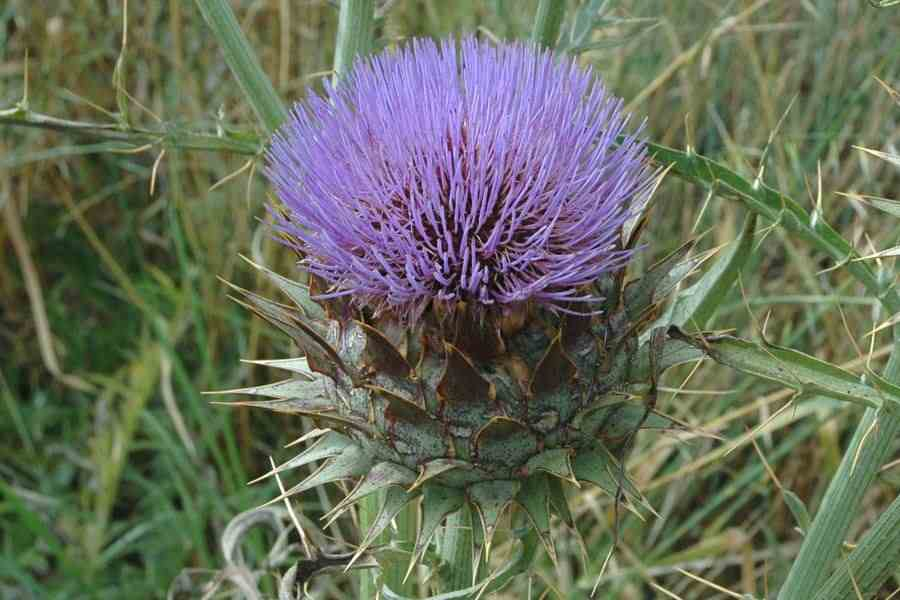thistle: (227, 34, 701, 524)
